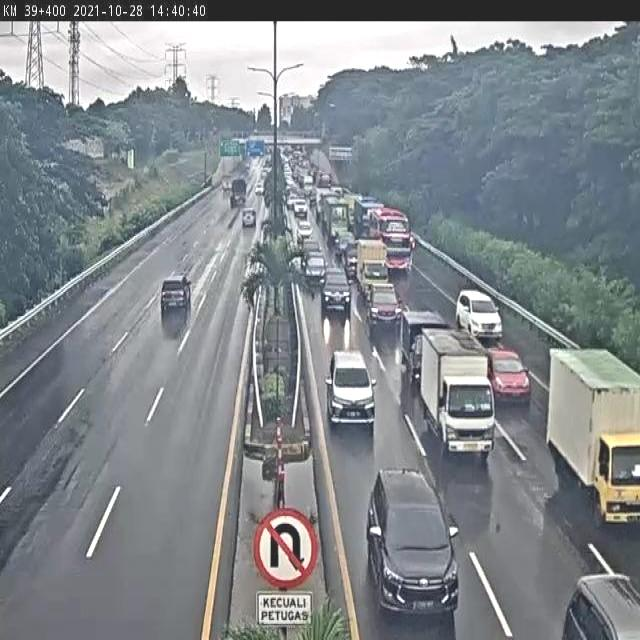Car: (365, 468, 459, 617), (322, 334, 389, 452), (560, 571, 640, 637), (456, 289, 503, 342), (321, 270, 351, 316), (160, 275, 191, 312), (304, 252, 328, 286)
Truck: (548, 350, 640, 524), (416, 328, 492, 459), (397, 309, 447, 380), (485, 347, 532, 406), (374, 210, 414, 274), (366, 284, 402, 335), (261, 453, 307, 487), (322, 197, 351, 250), (359, 262, 390, 304), (353, 197, 383, 239), (161, 302, 190, 341), (408, 333, 423, 384), (230, 177, 247, 209), (301, 238, 321, 265), (274, 467, 286, 511), (344, 243, 359, 278), (309, 150, 325, 180), (398, 341, 410, 379), (280, 97, 294, 129), (85, 137, 105, 159), (65, 138, 88, 157), (316, 188, 334, 212), (250, 260, 268, 284), (328, 146, 354, 162), (319, 206, 331, 240), (354, 268, 367, 299), (262, 459, 278, 484), (283, 129, 319, 140), (281, 212, 295, 240), (288, 194, 306, 215), (94, 191, 111, 213), (296, 218, 313, 240), (446, 508, 458, 539), (310, 189, 323, 216), (289, 255, 304, 278), (462, 272, 477, 292), (362, 281, 373, 307), (385, 221, 407, 234), (260, 160, 271, 185), (66, 101, 84, 116), (281, 146, 293, 167), (242, 209, 256, 227), (358, 196, 379, 208), (293, 168, 304, 189), (227, 208, 239, 227), (317, 172, 331, 188), (250, 121, 260, 143), (295, 227, 305, 248), (305, 187, 316, 206), (283, 166, 292, 189), (285, 180, 296, 198), (253, 164, 262, 184), (303, 174, 314, 190), (293, 144, 305, 158), (321, 117, 328, 141), (127, 149, 135, 170), (274, 146, 283, 164), (278, 138, 294, 148), (269, 161, 279, 176), (266, 186, 274, 204), (249, 148, 263, 158), (308, 283, 316, 300), (333, 186, 345, 197), (244, 152, 254, 165), (202, 175, 212, 188), (267, 152, 275, 168), (310, 168, 318, 184), (235, 137, 247, 147), (240, 131, 252, 141), (255, 182, 264, 195), (265, 145, 273, 159), (262, 218, 270, 232), (212, 125, 220, 139), (172, 143, 182, 153), (222, 180, 230, 192), (329, 143, 339, 152), (354, 194, 364, 202), (228, 195, 233, 208)
